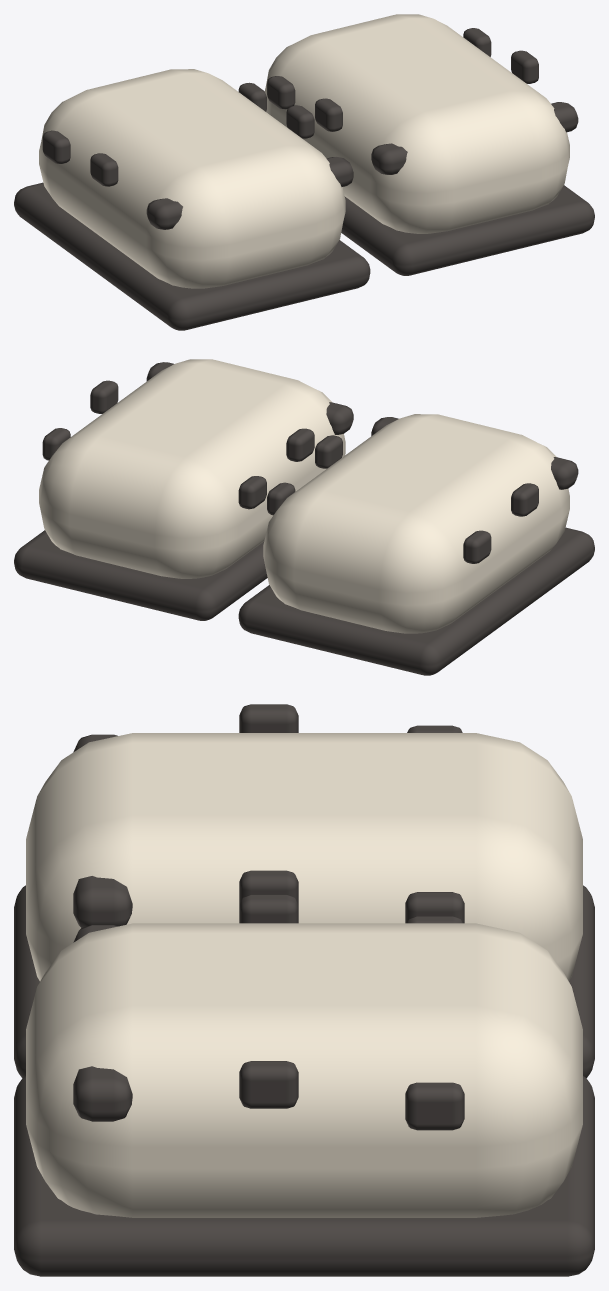
The model's file is gladiator_sandals.glb.
3 views of the same model, one above another, from view 1: azimuth 30°, elevation 25°; view 2: azimuth 150°, elevation 25°; view 3: azimuth 270°, elevation 25° (orthographic). The views are drawn at different scales.
Visible parts, largest first — view 1: gladiator_sandals_LegL, gladiator_sandals_LegR; view 2: gladiator_sandals_LegL, gladiator_sandals_LegR; view 3: gladiator_sandals_LegR, gladiator_sandals_LegL.
Boxes of the visible parts, left/top/right/bottom form: gladiator_sandals_LegL: left=14, top=69, right=370, bottom=330; gladiator_sandals_LegR: left=264, top=14, right=594, bottom=275; gladiator_sandals_LegL: left=238, top=414, right=594, bottom=675; gladiator_sandals_LegR: left=14, top=359, right=353, bottom=620; gladiator_sandals_LegR: left=14, top=894, right=594, bottom=1276; gladiator_sandals_LegL: left=14, top=704, right=594, bottom=1077.
Size of the model in its own units: 0.37 by 0.1075 by 0.245.
